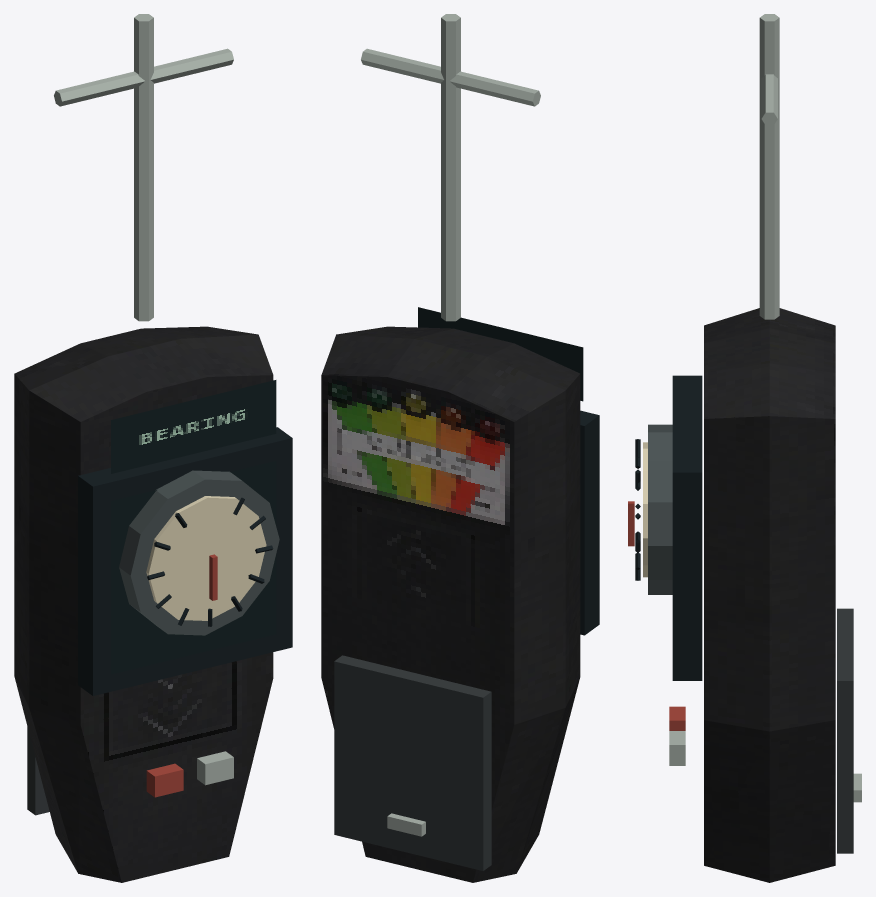
File: blender_anchor_triangulator_1.glb
3 renders of one model, left to right at view 1: azimuth 30°, elevation 25°; view 2: azimuth 150°, elevation 25°; view 3: azimuth 270°, elevation 25°, orthographic.
Parts seen in each view (by area): view 1: blender_anchor_triangulator_1; view 2: blender_anchor_triangulator_1; view 3: blender_anchor_triangulator_1.
Boxes of the visible parts, <box> form: blender_anchor_triangulator_1: <box>14,14,292,882</box>; blender_anchor_triangulator_1: <box>321,14,599,882</box>; blender_anchor_triangulator_1: <box>628,14,861,882</box>.
Size of the model in its own units: 0.08 by 0.28 by 0.071.
1 material, 1 textured.
